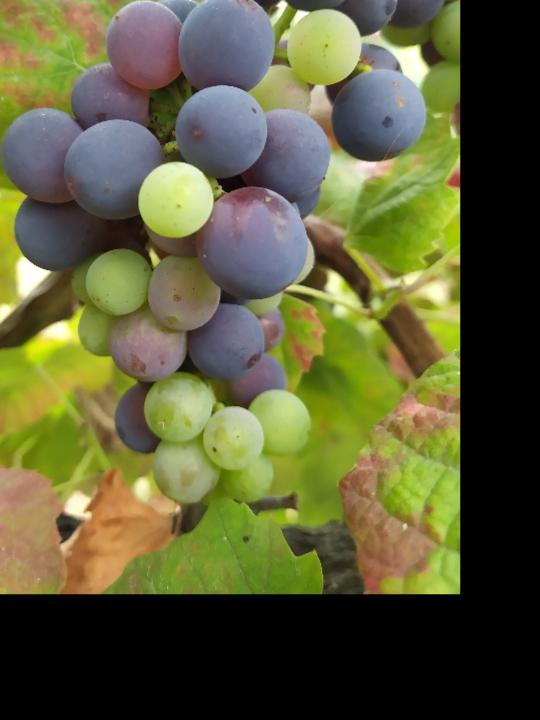grape: (0, 0, 335, 509)
